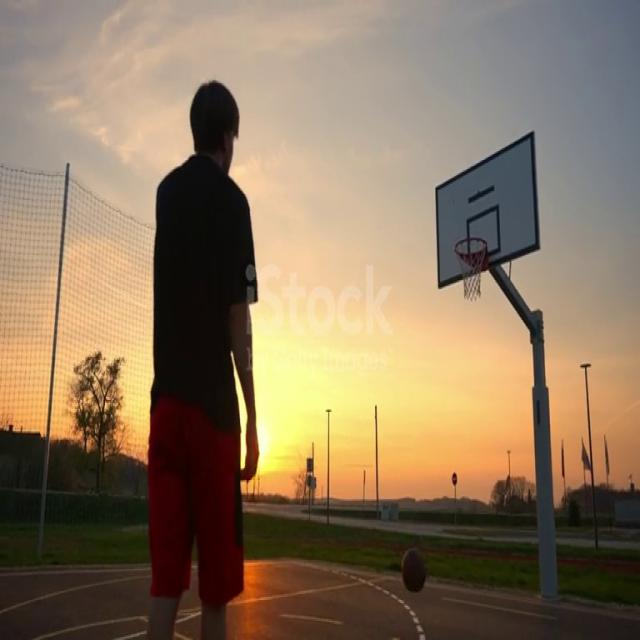ball: (402, 548, 426, 593)
